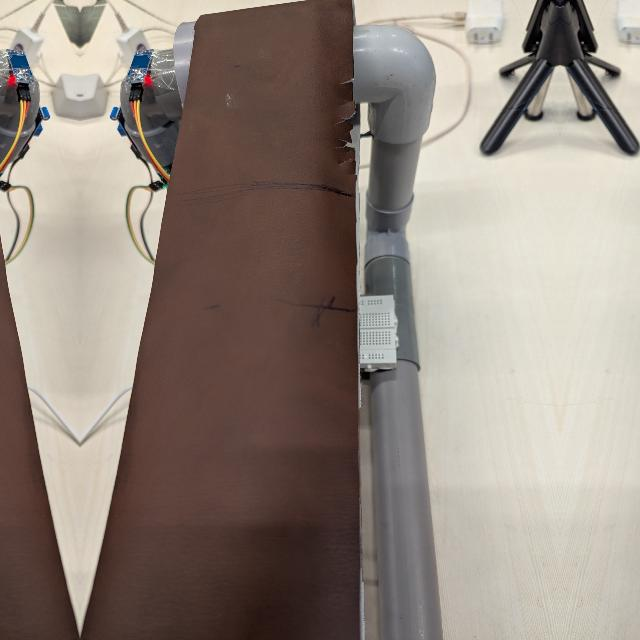edge_damage: (318, 59, 360, 182)
